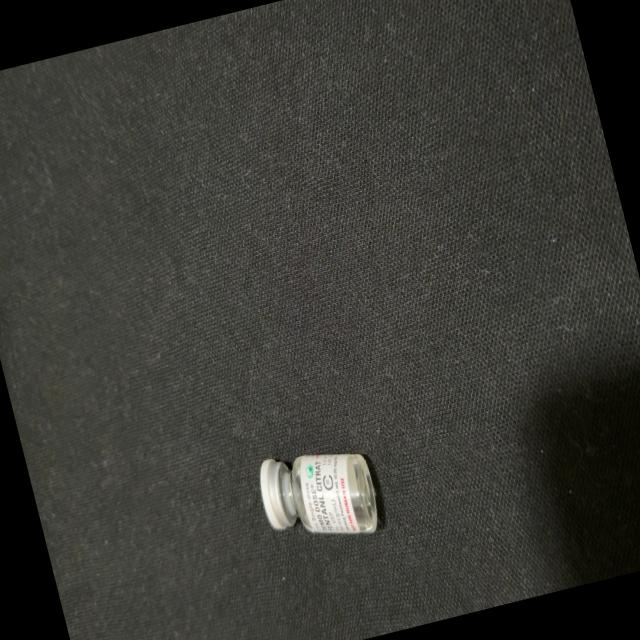fentanl_citrat: (255, 436, 385, 554)
